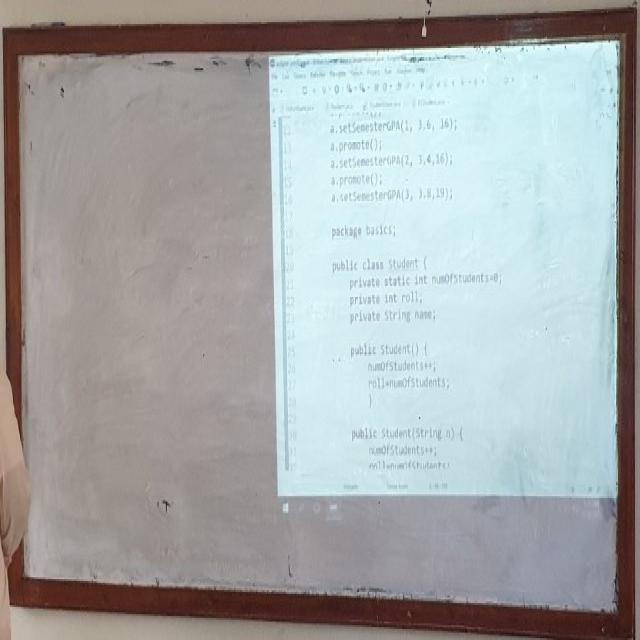Slide: (269, 38, 621, 528)
White-board: (12, 24, 631, 633)
